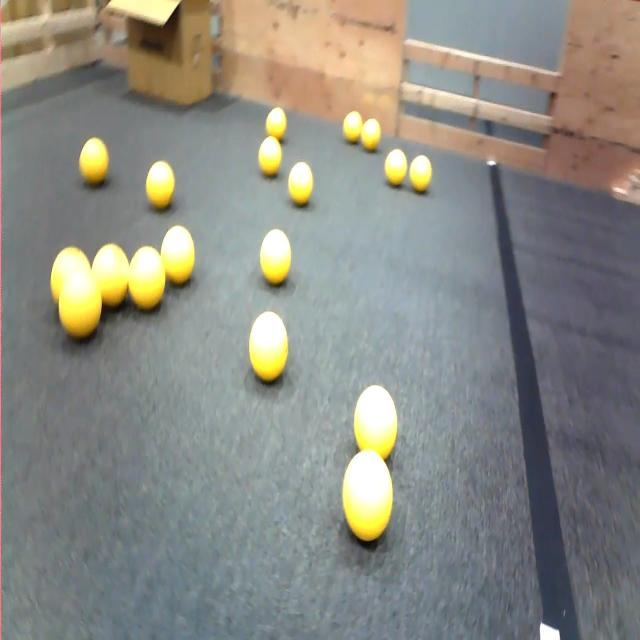fuel: (343, 450, 392, 542), (354, 385, 397, 459), (59, 270, 102, 339), (249, 312, 288, 383), (129, 247, 165, 311), (92, 244, 128, 307), (50, 247, 90, 303), (161, 225, 195, 285), (260, 229, 291, 285), (79, 137, 108, 185), (146, 161, 175, 209), (288, 161, 313, 206), (258, 136, 281, 176), (409, 155, 432, 192), (385, 149, 407, 186), (266, 107, 286, 141), (361, 119, 380, 151), (343, 112, 362, 143)
